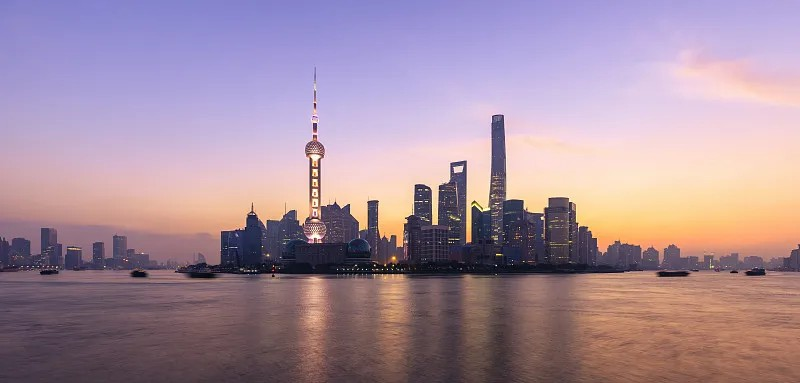Oriental: (303, 66, 327, 243)
